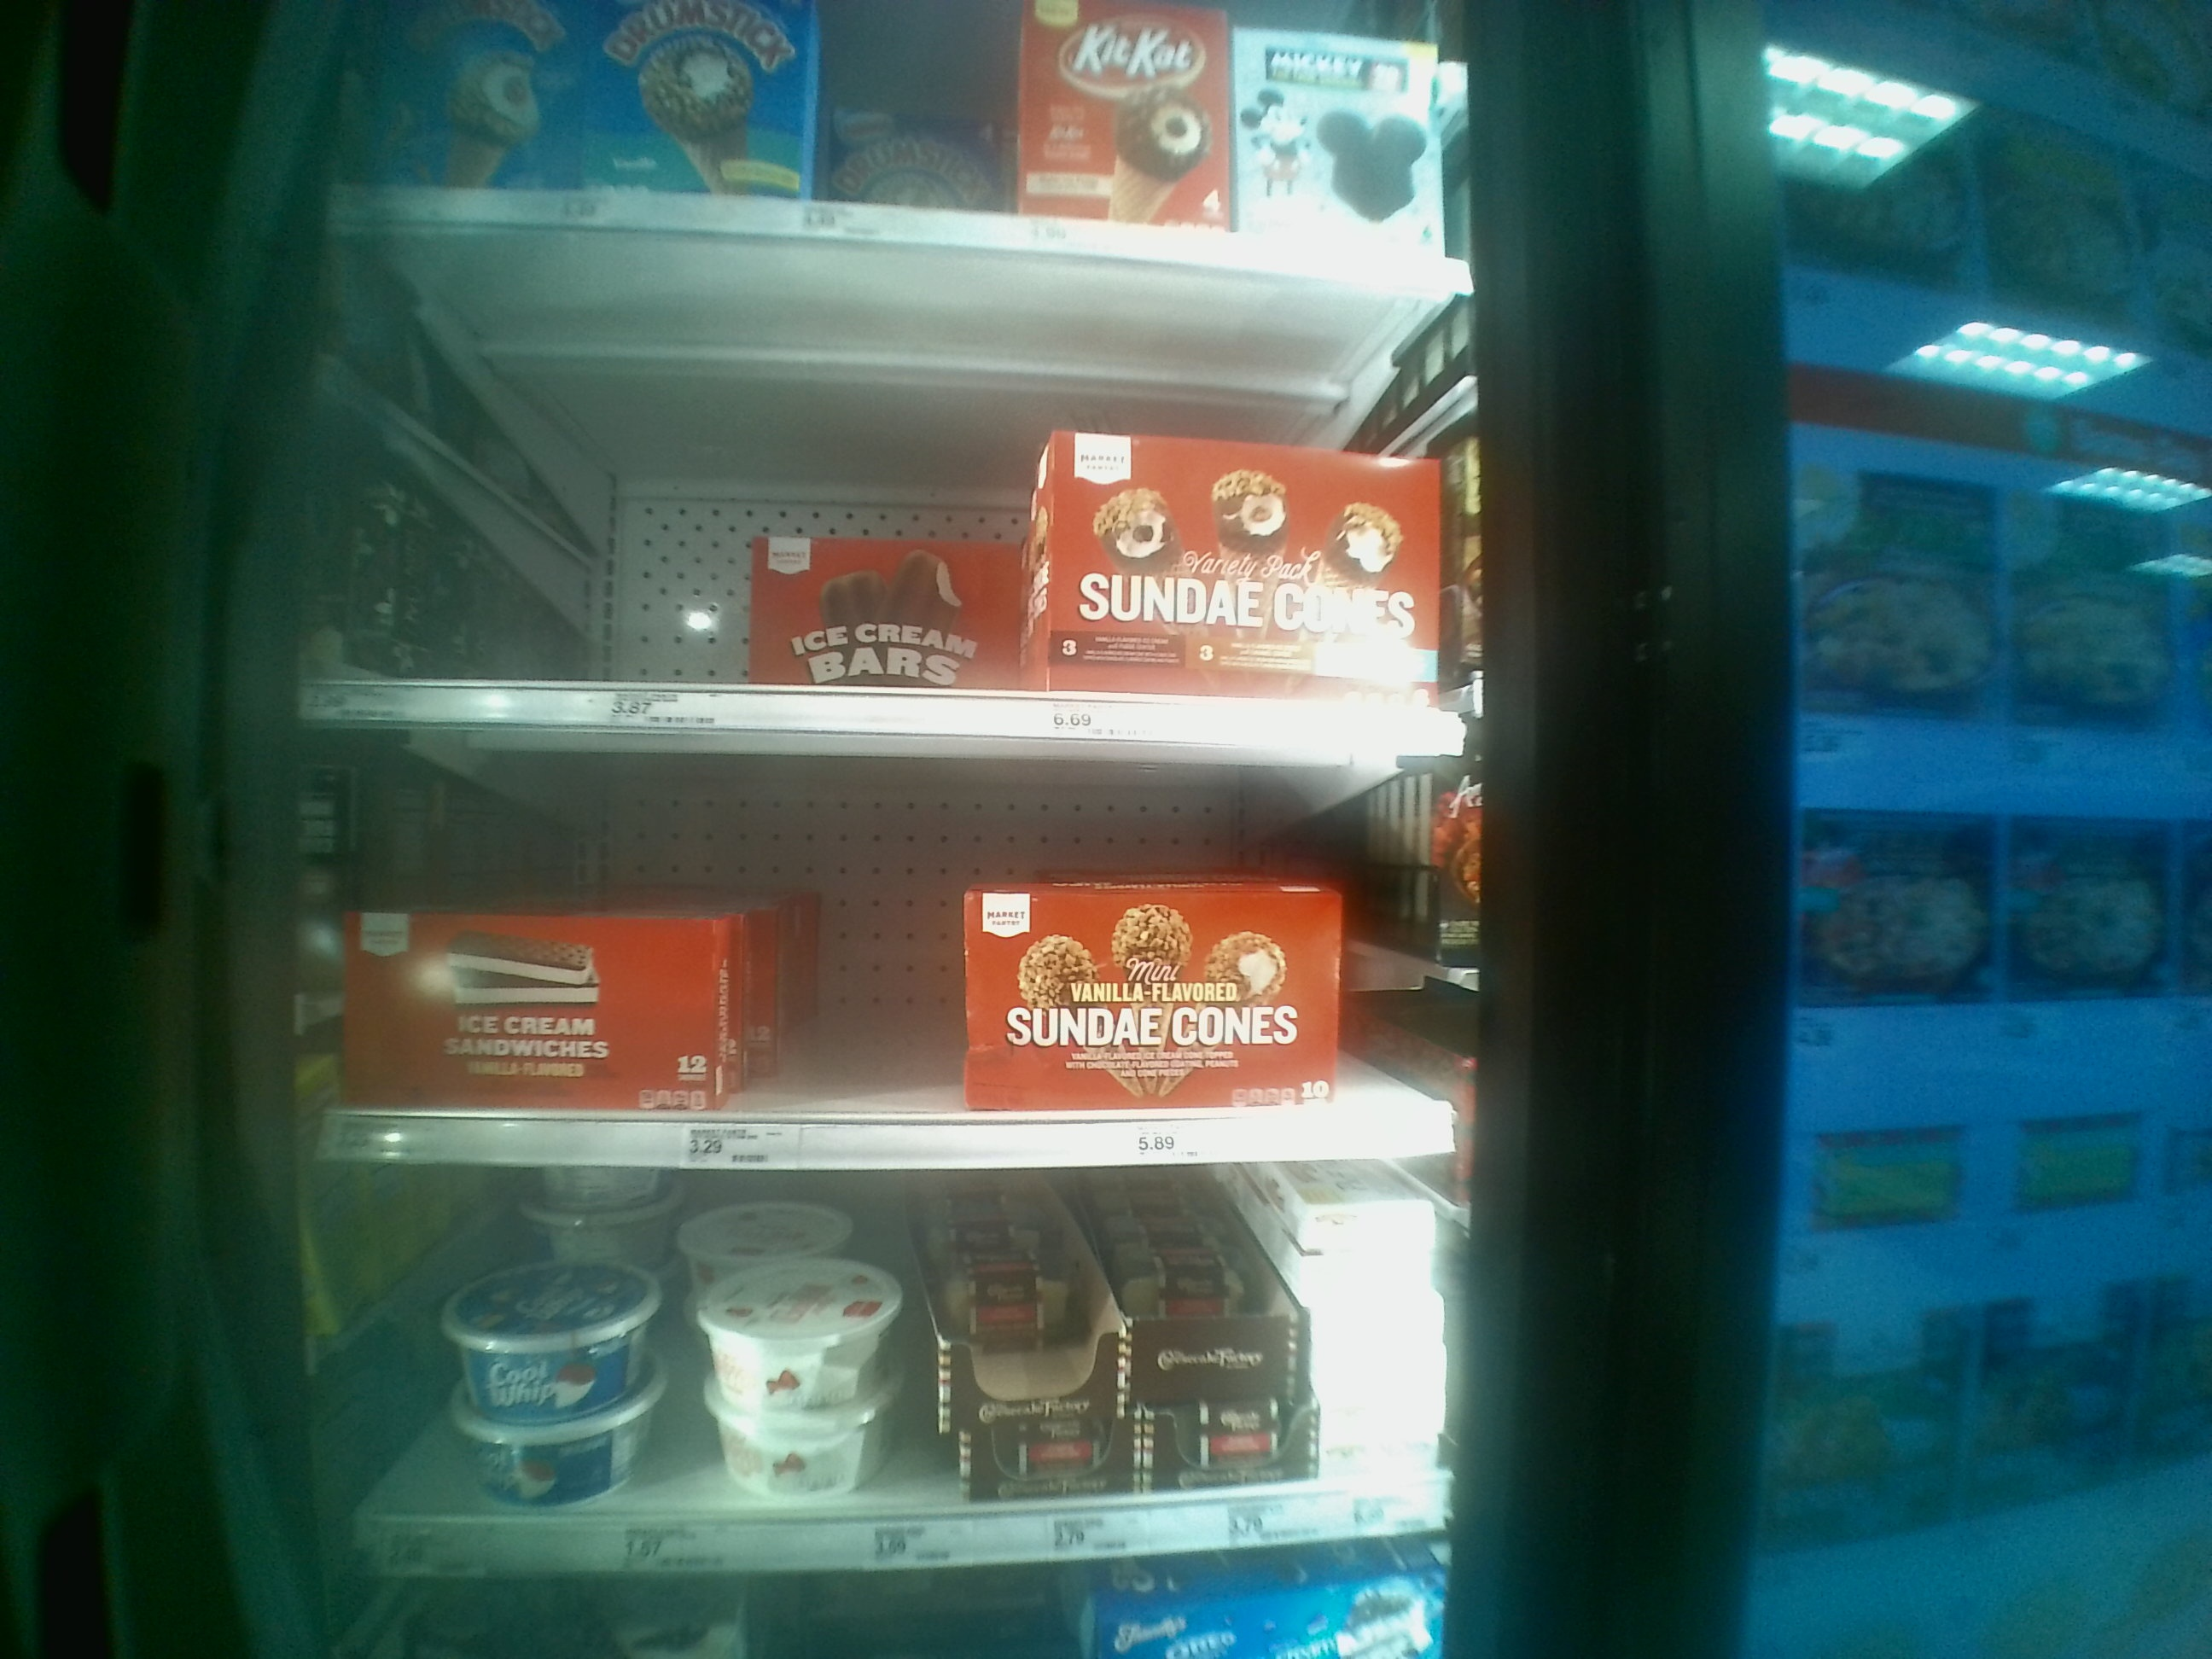shelf: (303, 718, 1468, 1159), (303, 324, 1456, 741), (334, 1133, 1458, 1539)
